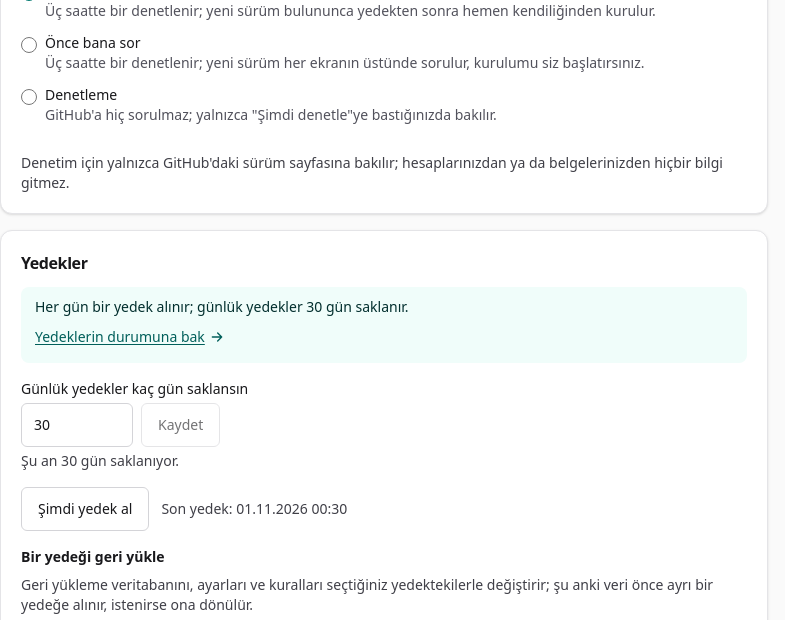
it: SettingsPage › keeps backups for the days typed, and says beside the field when they are out of range
(page scrolled)
Replace the text in the number field labelled "Günlük yedekler kaç gün saklansın" with "0" at (77, 425), box [21,403,133,447]
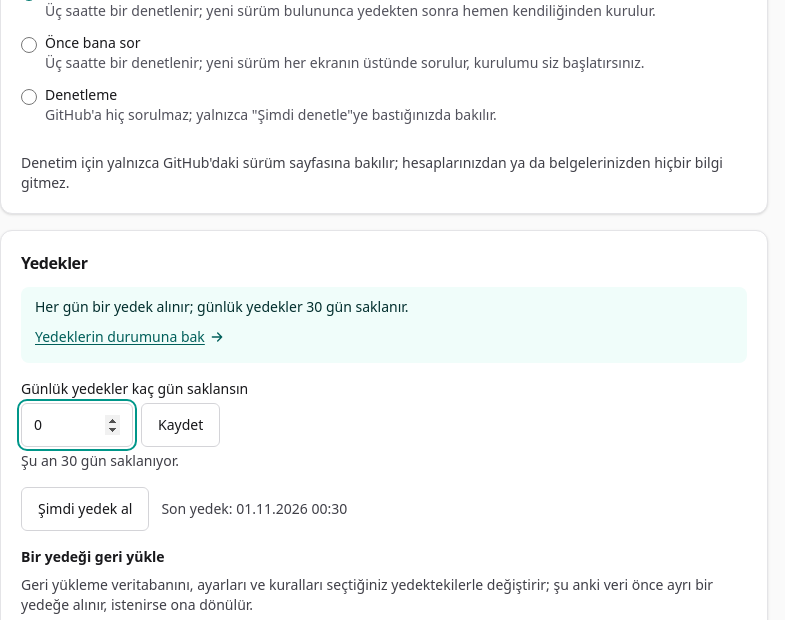
Click the button "Kaydet" at (181, 425), box [141,403,220,447]
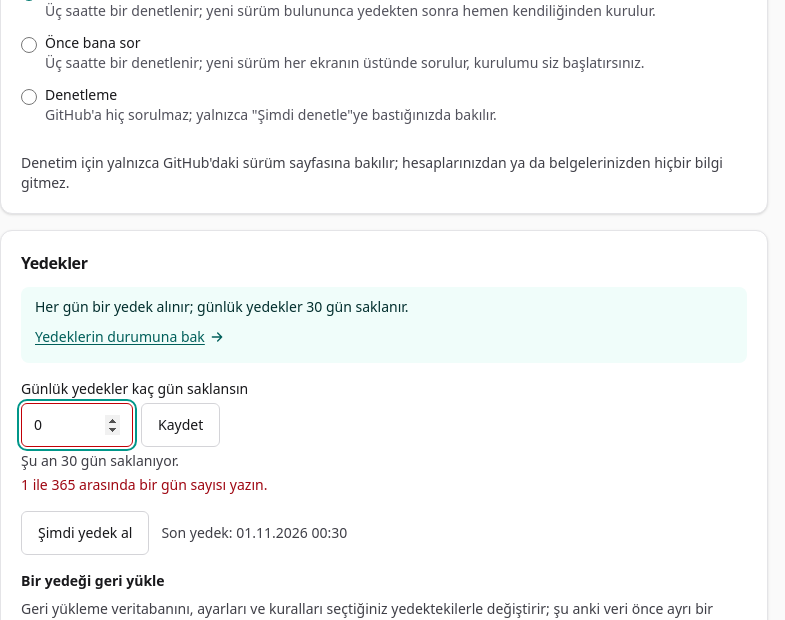
Replace the text in the number field labelled "Günlük yedekler kaç gün saklansın" with "90" at (77, 425), box [21,403,133,447]
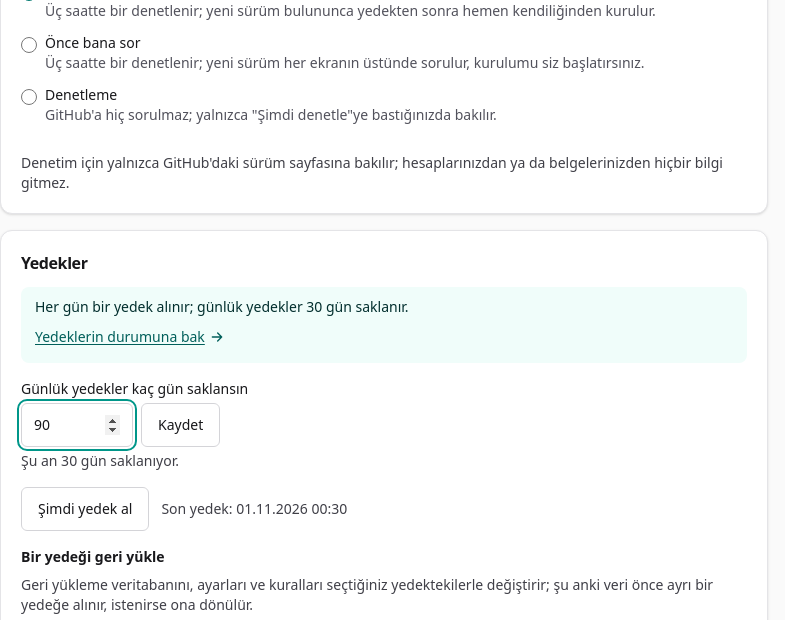
Click the button "Kaydet" at (181, 425), box [141,403,220,447]
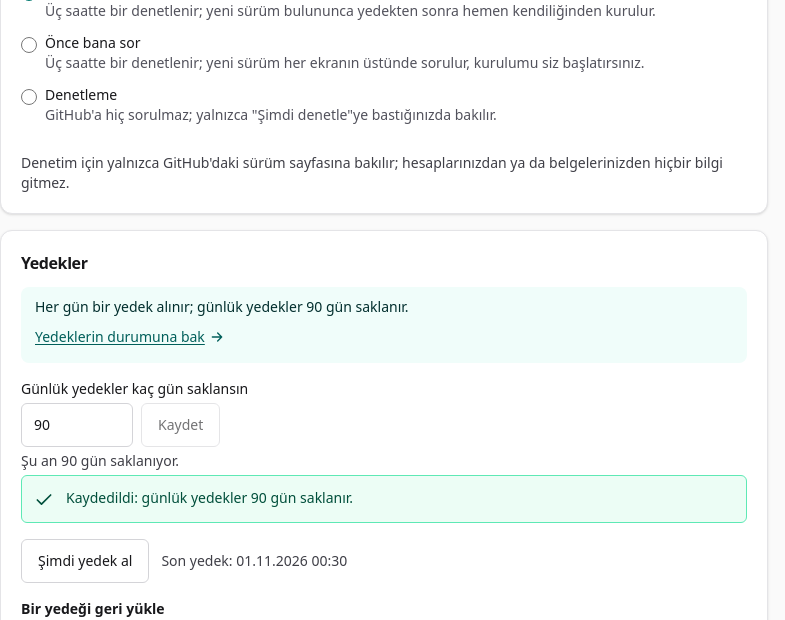
Now the text "Kaydedildi: günlük yedekler 90 gün saklanır." is shown, box [66,488,353,508]
